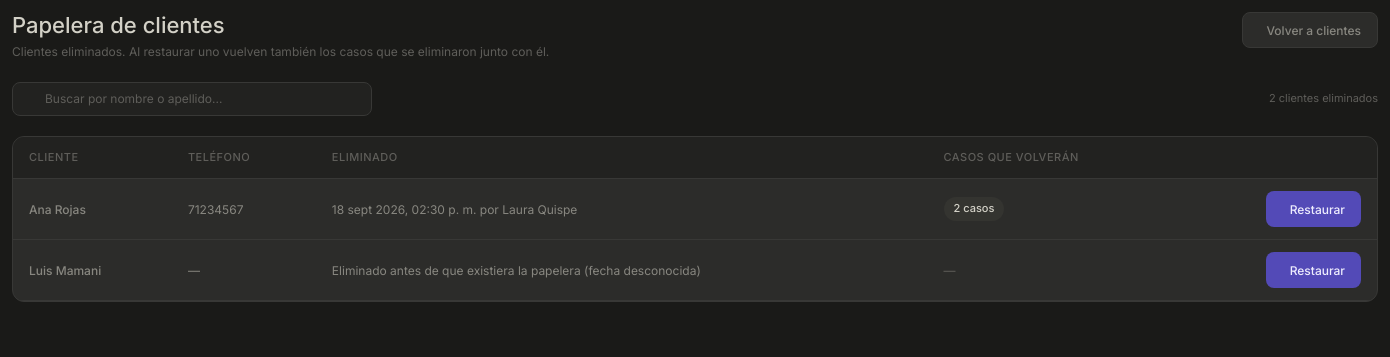
Test: PapeleraClientesPage › restaurar un cliente sin casos no menciona casos
Check: the text "Luis Mamani" is shown, box [13, 240, 172, 301]
Click the button "Restaurar" in the row of "Luis Mamani" at (1313, 270), box [1266, 252, 1361, 288]
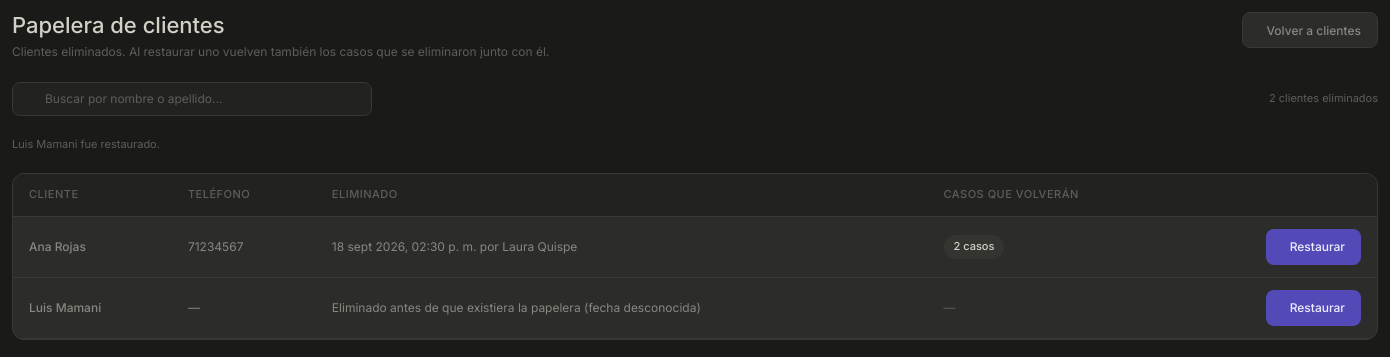
Check: the text "Luis Mamani fue restaurado." is shown, box [12, 137, 160, 151]
